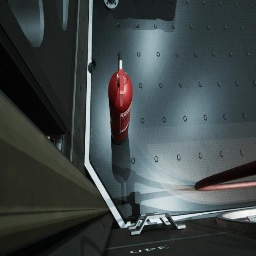FireExtinguisher ]: (108, 51, 133, 145)
